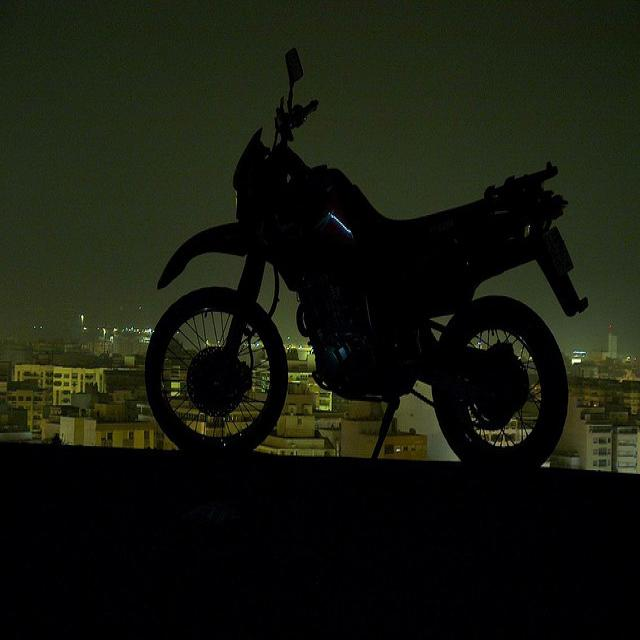Motorbike: (183, 117, 596, 476)
